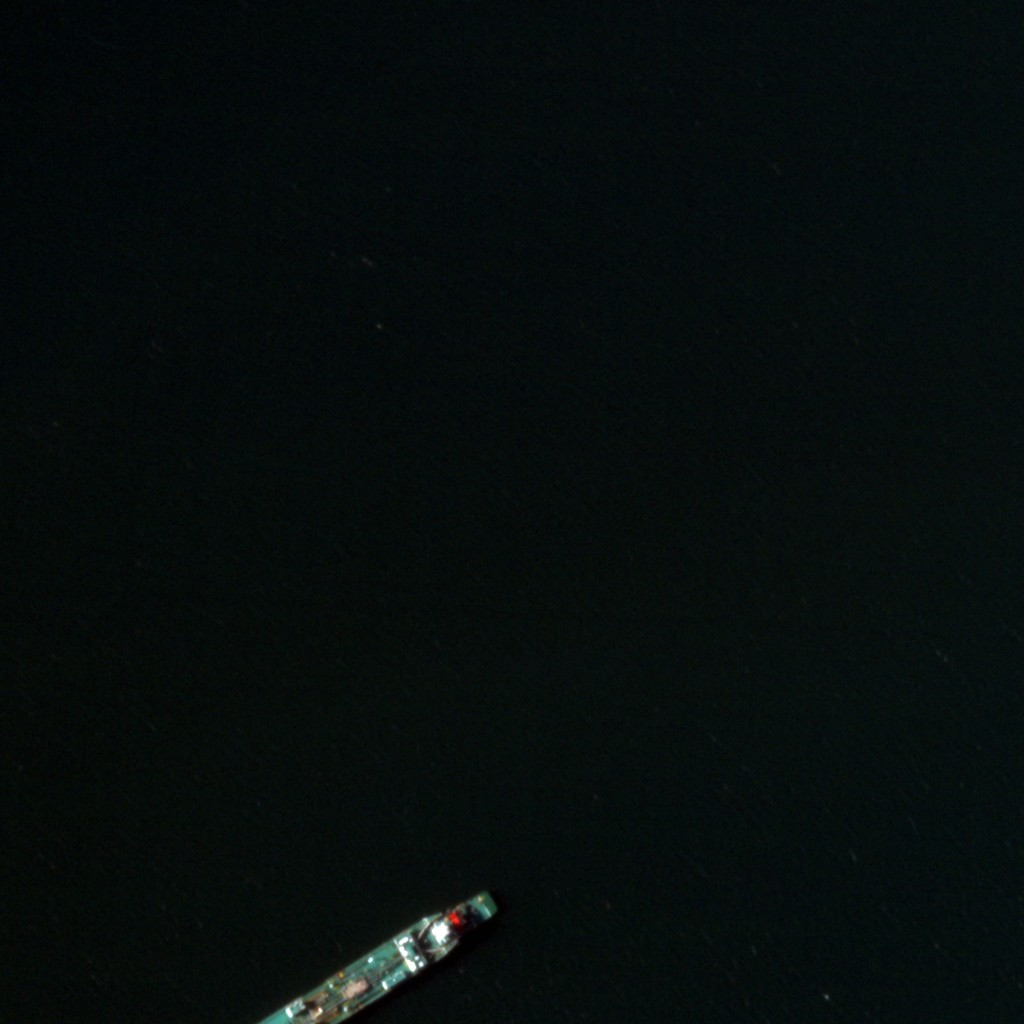boats: (248, 886, 499, 1023)
